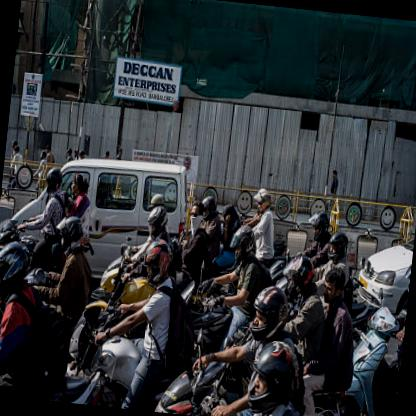car: (6, 150, 192, 287)
motorcycle: (149, 272, 361, 415), (63, 236, 227, 415), (98, 193, 202, 312), (342, 248, 412, 415)
